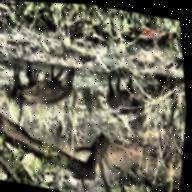boar: (20, 55, 79, 113), (101, 67, 159, 120)
